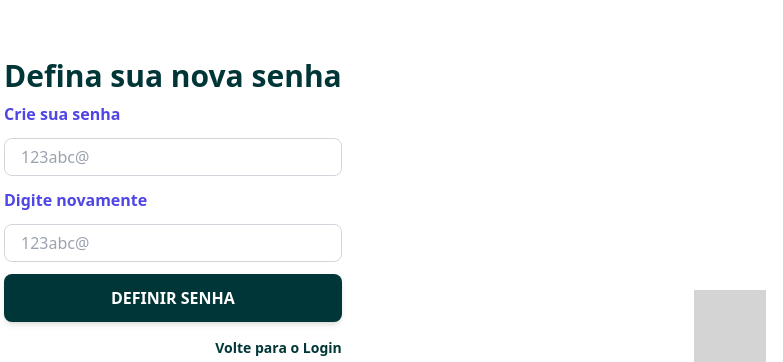
Test: ResetPassword Component › mostra erro se as senhas não coincidirem
Type "123456" into the 1st password field with placeholder "123abc@".
click(173, 157); type("123456")  # box [5,139,341,175]
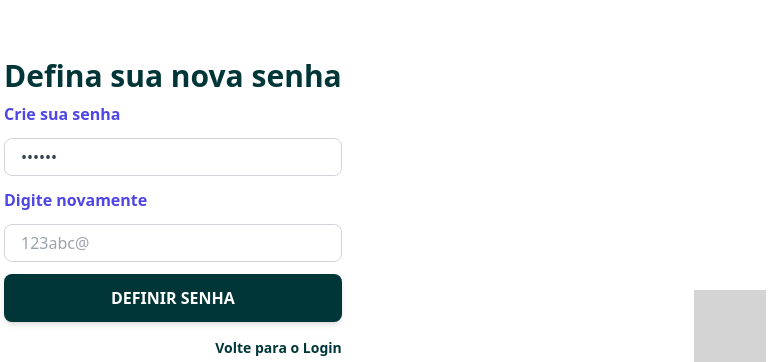
Type "654321" into the password field with placeholder "123abc@".
click(173, 243); type("654321")  # box [5,225,341,261]
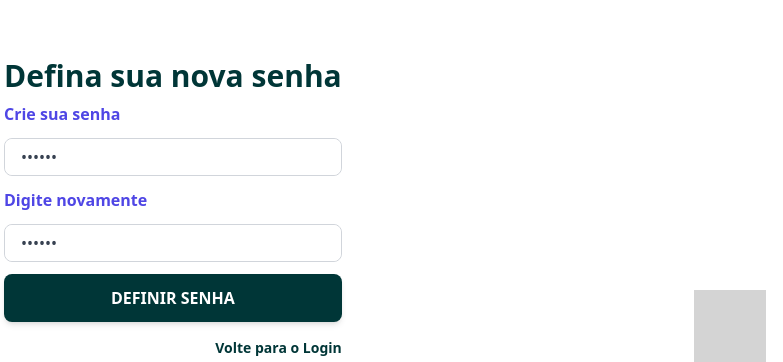
Click the button "DEFINIR SENHA".
click(173, 298)  # box [4,274,342,322]
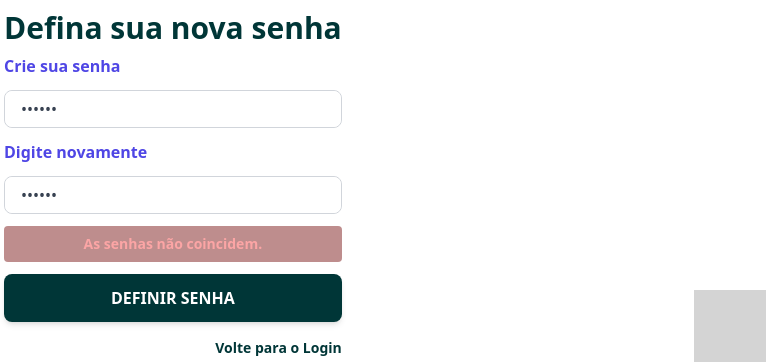
Result: the text "As senhas não coincidem." is shown at [4,226,342,262]
